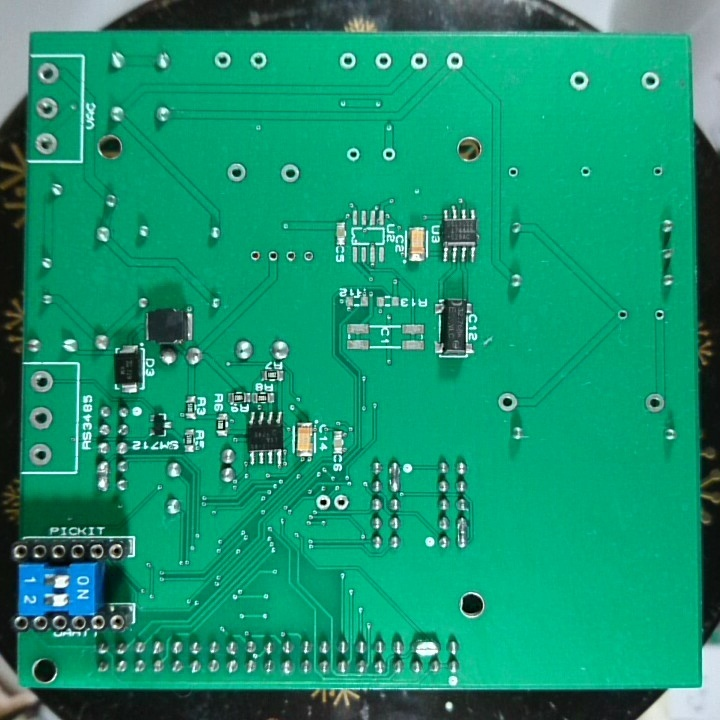F: (27, 403, 56, 435), (25, 368, 58, 395), (26, 440, 54, 469), (32, 130, 59, 158), (496, 389, 522, 416), (33, 96, 60, 121), (210, 49, 235, 76), (34, 62, 62, 86), (642, 390, 668, 415), (565, 69, 591, 93), (338, 50, 362, 75), (225, 160, 248, 184), (278, 162, 302, 185), (640, 69, 663, 92), (248, 50, 271, 72), (409, 49, 428, 75), (444, 50, 466, 72), (374, 50, 394, 74), (332, 492, 352, 515), (344, 143, 364, 166), (298, 245, 316, 269), (379, 143, 399, 163), (263, 244, 281, 266), (281, 244, 299, 266), (313, 492, 332, 512), (246, 246, 265, 265), (650, 163, 668, 180), (651, 305, 668, 323), (577, 164, 594, 181), (614, 306, 630, 322), (506, 164, 519, 180)
P: (408, 633, 443, 656), (386, 458, 403, 496), (92, 458, 111, 492), (454, 514, 469, 549)
